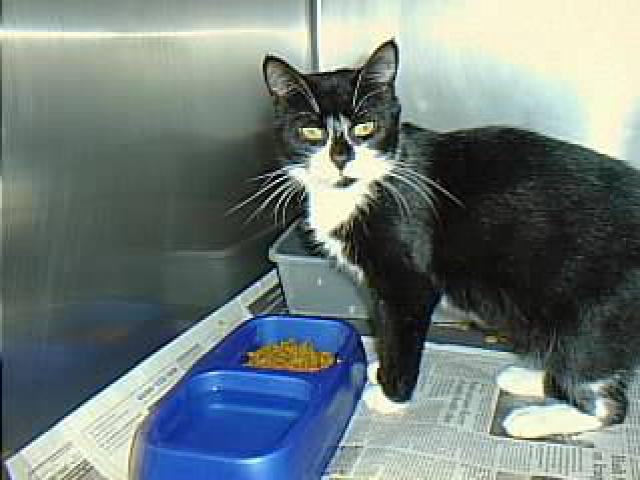cat: (249, 31, 635, 423)
